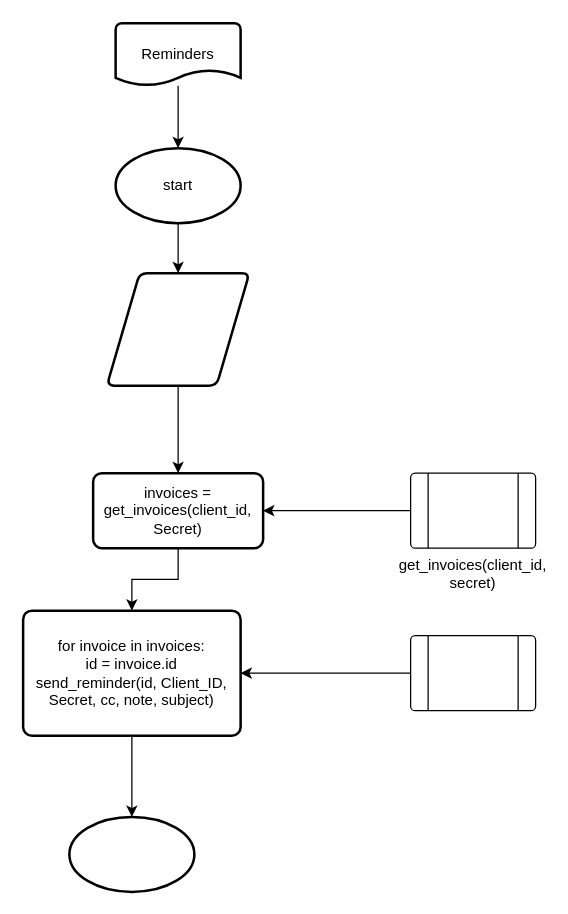
Image size: 568x914. Some labels were removed from this diagram. Here are the shapes that lost their labels. From the top down, the centre of each, then its label:
At (177,328): "Client_ID Secret cc note subject".
At (472,672): "send_reminder(id, client_id, secret, cc, note, subject)".
At (131,853): "end".
